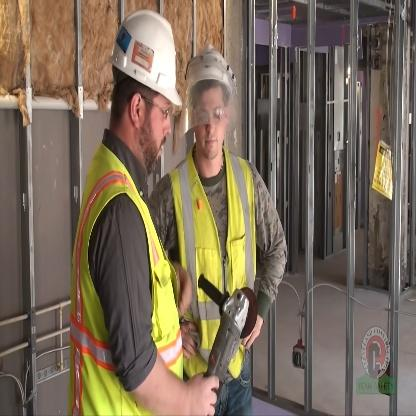helmet: (107, 5, 179, 184), (177, 39, 230, 166)
